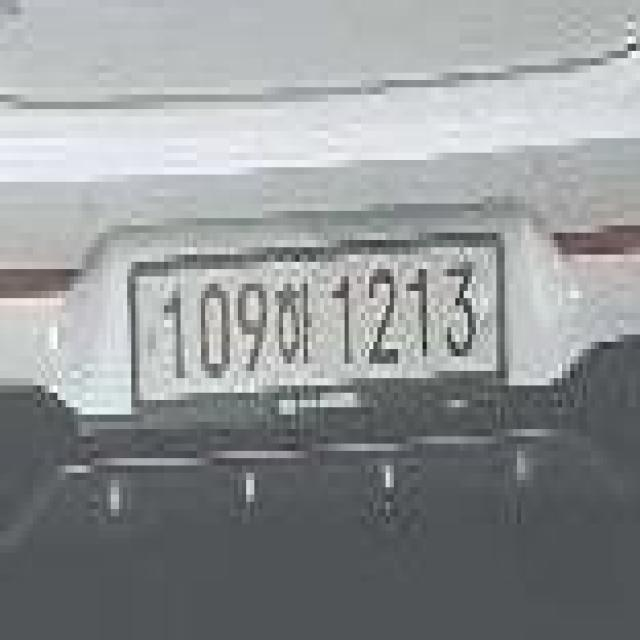illegal_plate: (125, 233, 512, 422)
